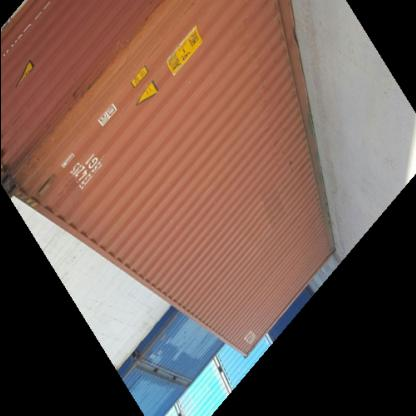Damage: (12, 78, 100, 185), (81, 10, 171, 92)
